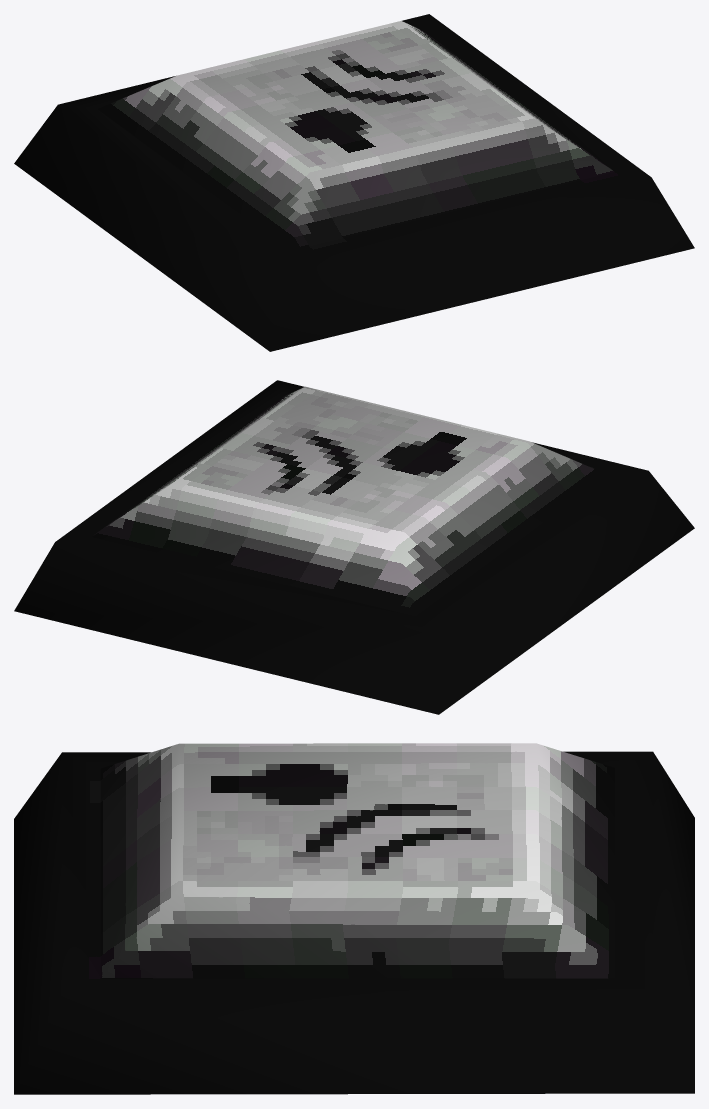
Rendered from button_square_small_receive.dae.
3 renders of one model, top to bottom at view 1: azimuth 30°, elevation 25°; view 2: azimuth 150°, elevation 25°; view 3: azimuth 270°, elevation 25°, orthographic. The views are drawn at different scales.
Parts seen in each view (by area): view 1: frame, button; view 2: frame, button; view 3: button, frame.
Part boxes in pixels (x1=…): frame: x1=14, y1=14, x2=694, y2=351; button: x1=97, y1=21, x2=614, y2=250; frame: x1=14, y1=380, x2=694, y2=714; button: x1=91, y1=386, x2=608, y2=616; button: x1=100, y1=743, x2=614, y2=978; frame: x1=14, y1=751, x2=694, y2=1094.
Bounding box in the file's own units: 0.0929 × 0.0225 × 0.097.
